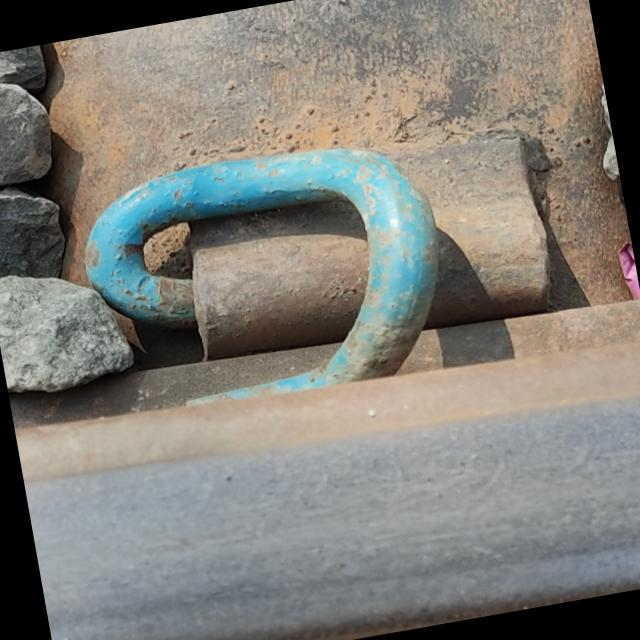track_bolt: (62, 117, 468, 429)
